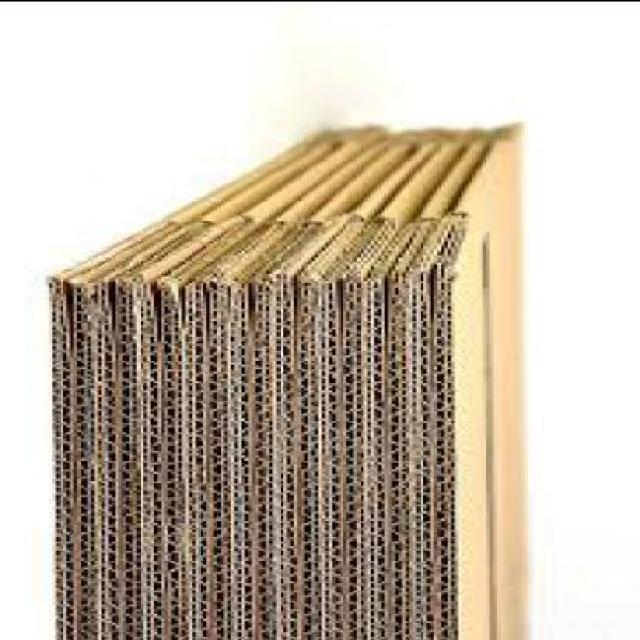box: (55, 125, 534, 639), (437, 125, 534, 639)
